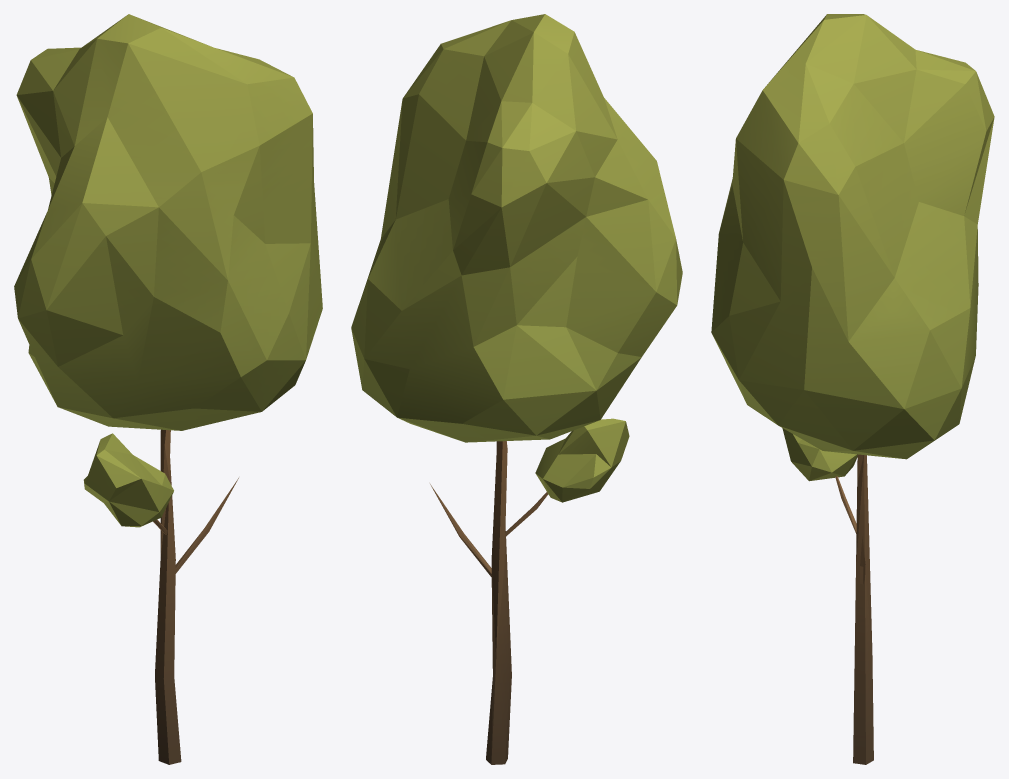
File: Spring_Tree_08.glb
3 views of the same model, side by side, from view 1: azimuth 30°, elevation 25°; view 2: azimuth 150°, elevation 25°; view 3: azimuth 270°, elevation 25° (orthographic). The views are drawn at different scales.
Parts seen in each view (by area): view 1: Spring_Tree_08_LOD0; view 2: Spring_Tree_08_LOD0; view 3: Spring_Tree_08_LOD0.
Boxes of the visible parts, <box> form: Spring_Tree_08_LOD0: <box>14,14,322,764</box>; Spring_Tree_08_LOD0: <box>351,14,682,764</box>; Spring_Tree_08_LOD0: <box>711,14,994,764</box>.
Size of what is drawn, in the model's own units: 2.71 by 6.61 by 2.34.
Materials: 1 (1 with a texture image).
